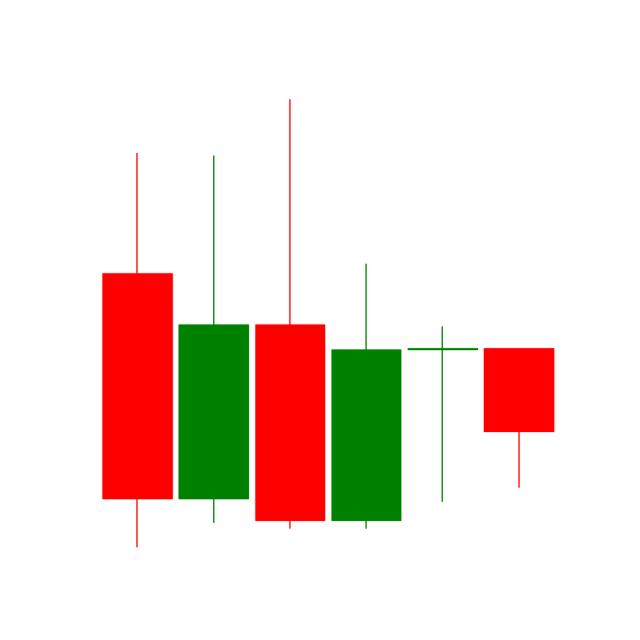Dragonfly Doji: (403, 323, 481, 503)
Hanging Man: (485, 349, 554, 491)
Inverted Hammer: (331, 265, 401, 528)
Shooting Star: (254, 98, 326, 531)
